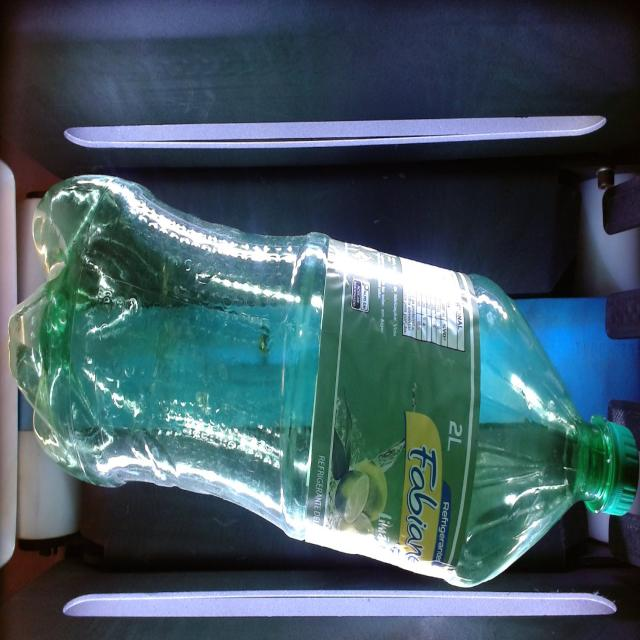bottom: (7, 174, 157, 482)
cap: (582, 395, 640, 523)
